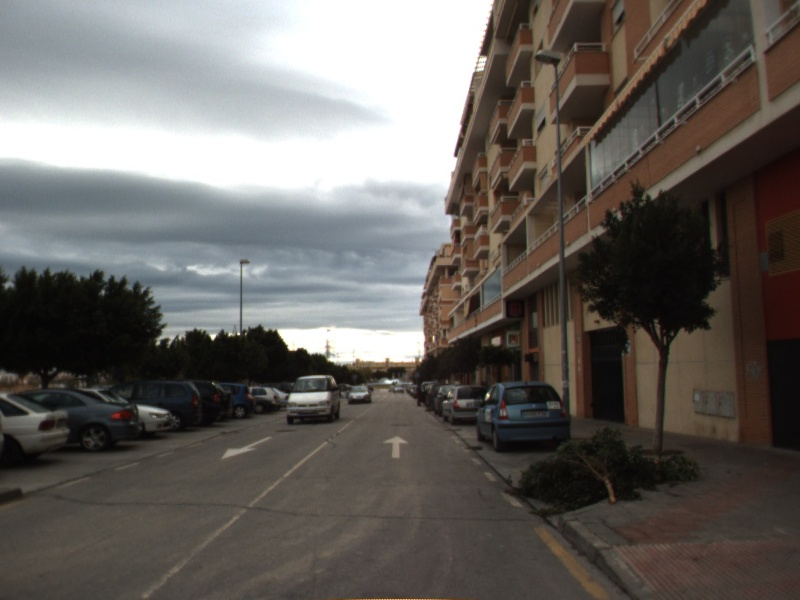STRAIGHT: (381, 433, 411, 460)
